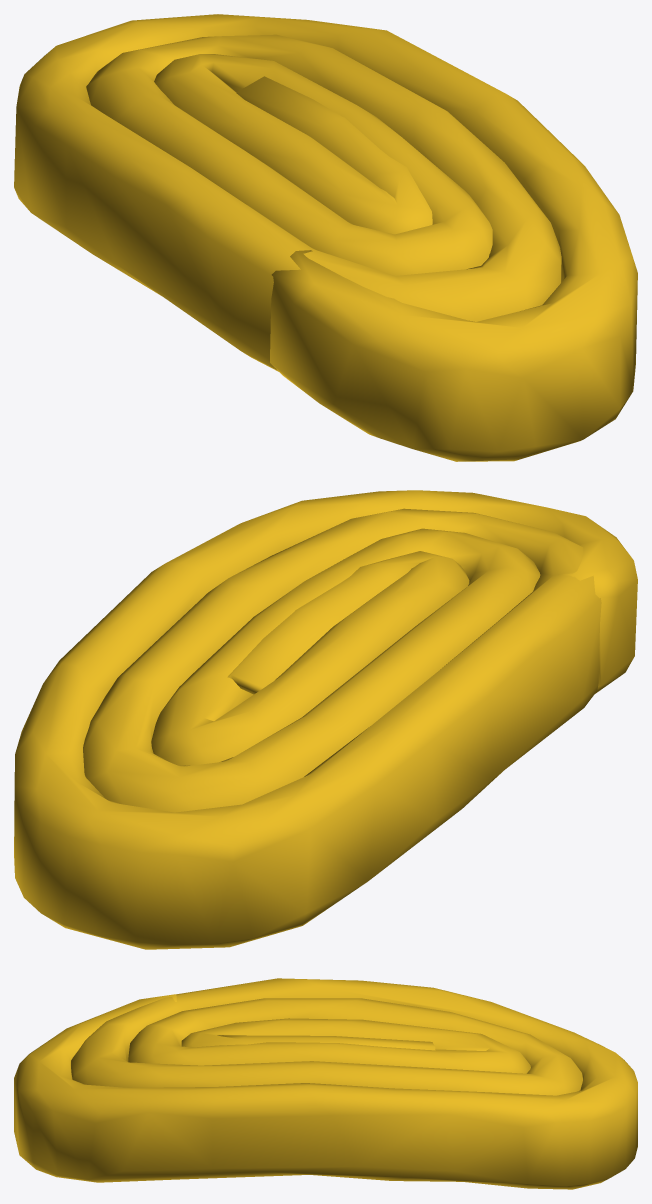
The model's file is sushi_tamago.fbx.
3 views of the same model, one above another, from view 1: azimuth 30°, elevation 25°; view 2: azimuth 150°, elevation 25°; view 3: azimuth 270°, elevation 25° (orthographic). The views are drawn at different scales.
Parts seen in each view (by area): view 1: ベジエカーブ; view 2: ベジエカーブ; view 3: ベジエカーブ.
Boxes of the visible parts, x1,y1,x2,y2 form: ベジエカーブ: [14, 14, 637, 461]; ベジエカーブ: [14, 490, 637, 949]; ベジエカーブ: [14, 978, 637, 1189].
Size of the model in its own units: 0.3059 by 0.1396 by 0.6354.
